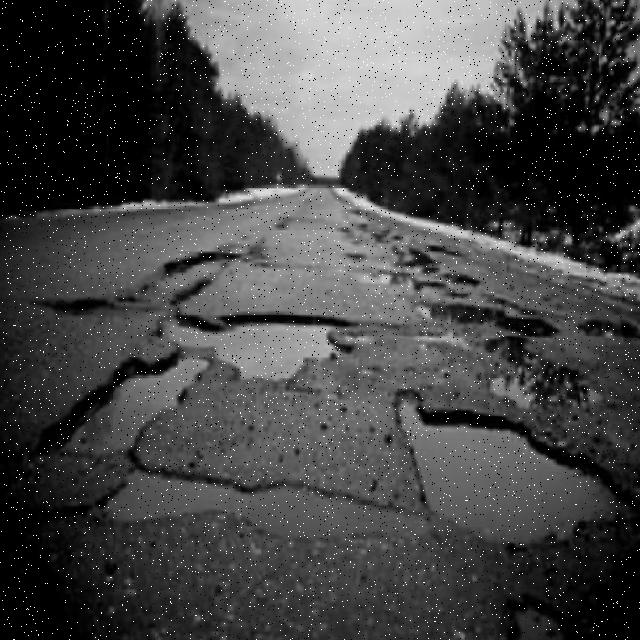pothole: (393, 390, 637, 548), (96, 471, 432, 544), (36, 354, 209, 457), (29, 252, 242, 310), (167, 314, 354, 379), (507, 595, 566, 640)
